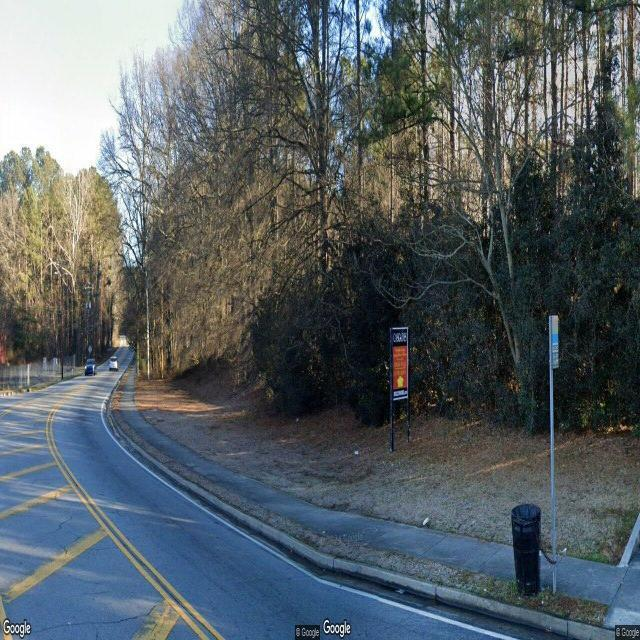trash_can: (512, 502, 540, 586)
